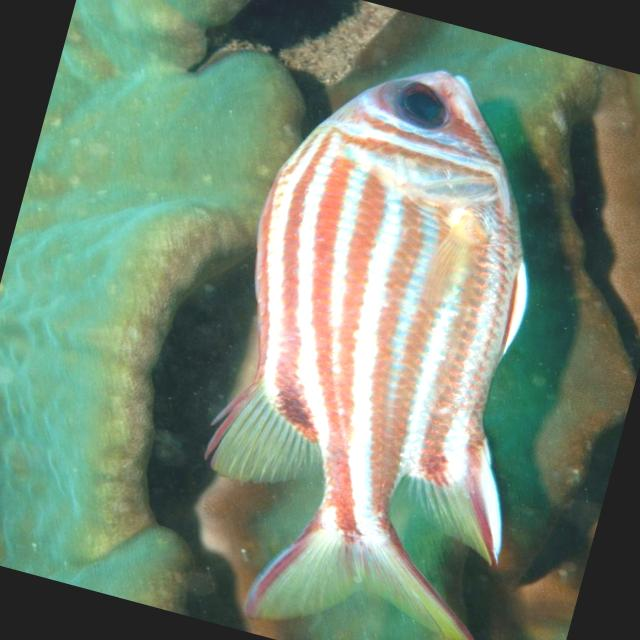Asker Baligi: (147, 28, 634, 640)
